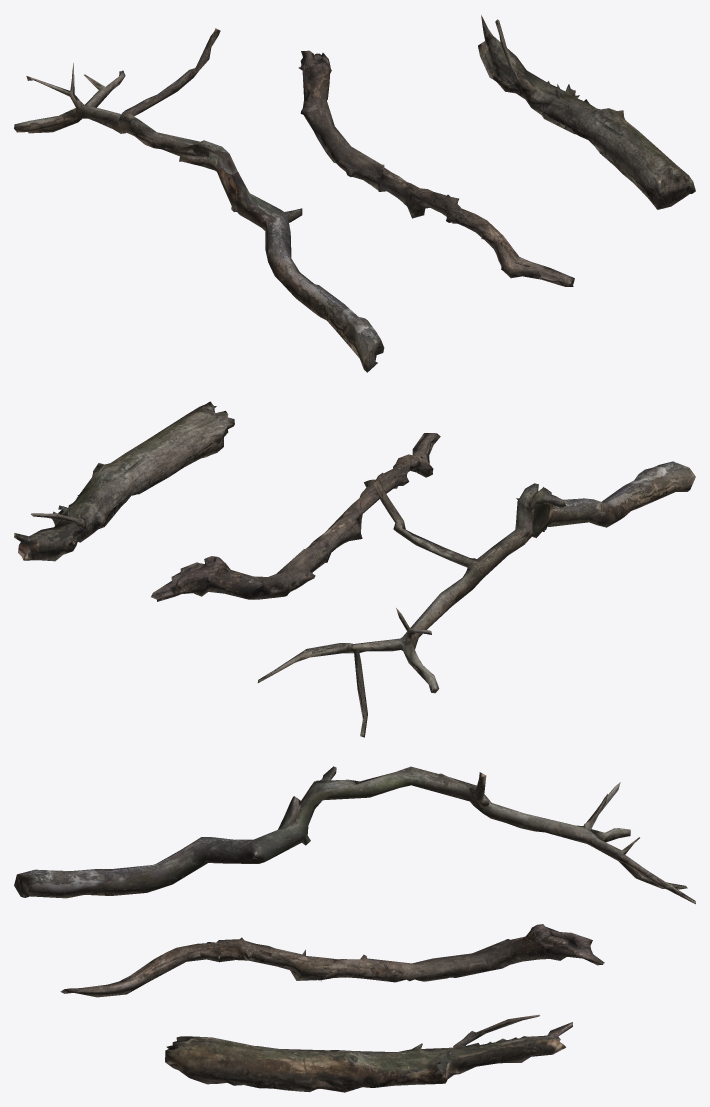
Rendered from dry_branches_medium_01.glb.
3 views of the same model, one above another, from view 1: azimuth 30°, elevation 25°; view 2: azimuth 150°, elevation 25°; view 3: azimuth 270°, elevation 25° (orthographic). The views are drawn at different scales.
Parts seen in each view (by area): view 1: dry_branches_medium_01_a, dry_branches_medium_01_c, dry_branches_medium_01_b; view 2: dry_branches_medium_01_a, dry_branches_medium_01_c, dry_branches_medium_01_b; view 3: dry_branches_medium_01_a, dry_branches_medium_01_c, dry_branches_medium_01_b.
Boxes of the visible parts, box(x1,y1,x2,y2) form: dry_branches_medium_01_a: box(14, 28, 384, 372); dry_branches_medium_01_c: box(478, 15, 695, 209); dry_branches_medium_01_b: box(298, 50, 574, 286); dry_branches_medium_01_a: box(257, 461, 695, 737); dry_branches_medium_01_c: box(14, 401, 234, 561); dry_branches_medium_01_b: box(151, 433, 440, 601); dry_branches_medium_01_a: box(14, 766, 695, 904); dry_branches_medium_01_c: box(165, 1014, 572, 1092); dry_branches_medium_01_b: box(60, 924, 604, 997).
Bounding box in the file's own units: 1.06 × 0.3401 × 1.3.
Materials: 1 (1 with a texture image).
